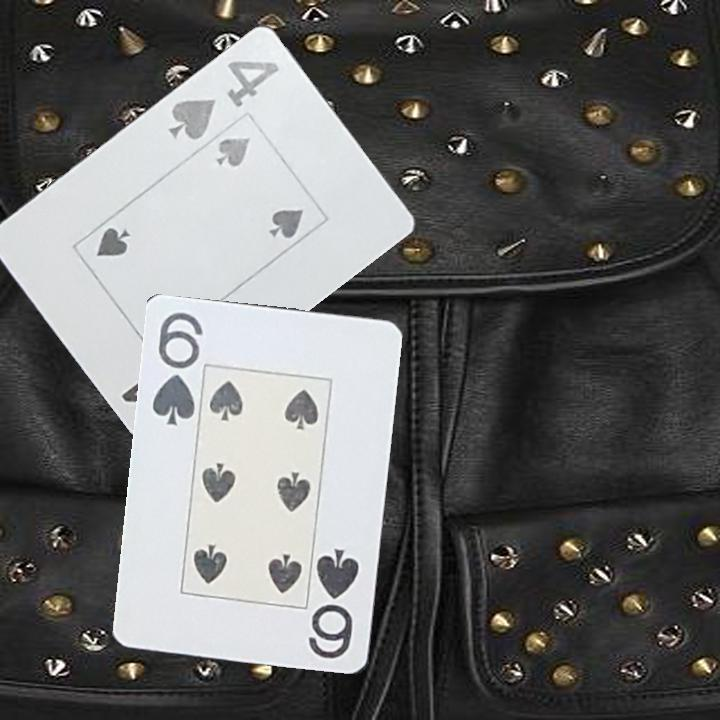4s: (166, 54, 283, 144)
6s: (149, 309, 206, 430), (307, 546, 363, 662)
